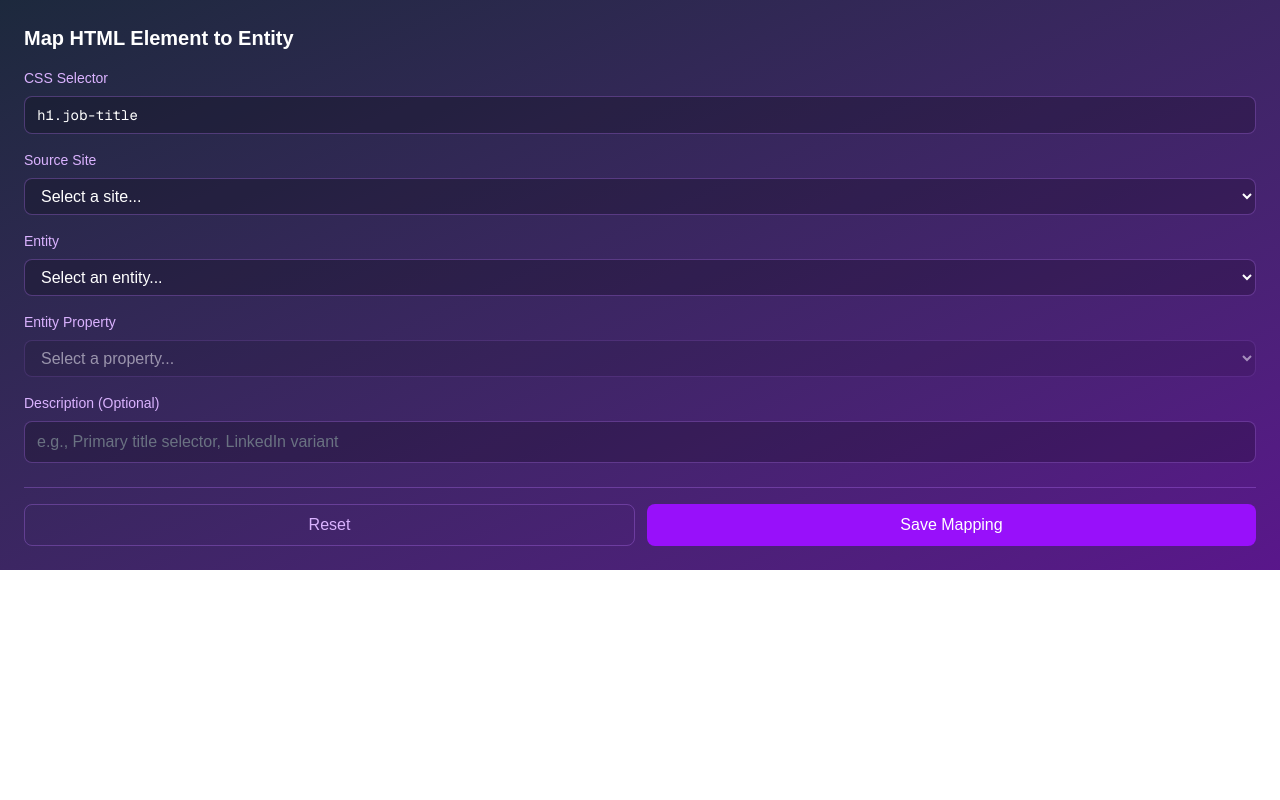
Test case: ValueMappingForm › form validation › should validate entity property selection
The width and height of the screenshot is (1280, 800).
Select "indeed.com" in the dropdown labelled "Source Site" at [640, 196], box [24, 178, 1256, 215]
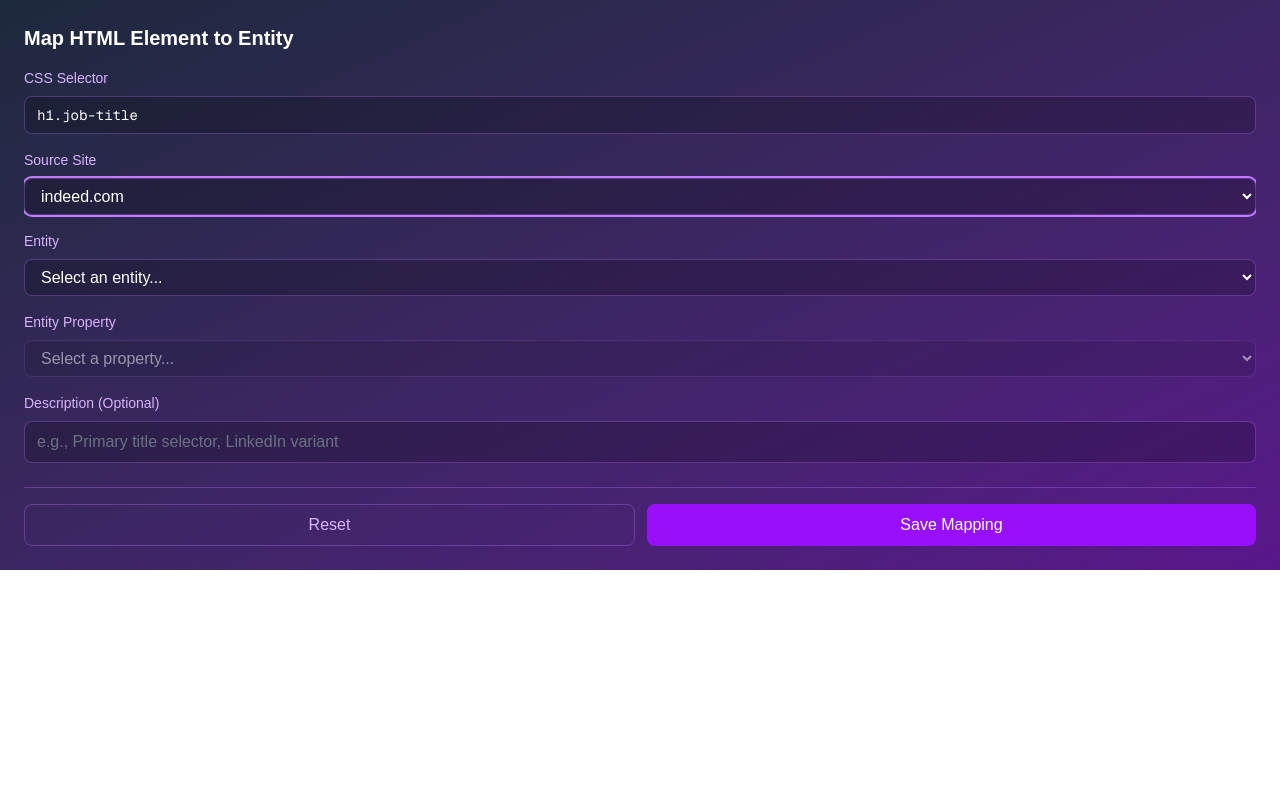
Select "roleListing" in the dropdown labelled "Entity" at [640, 278], box [24, 259, 1256, 296]
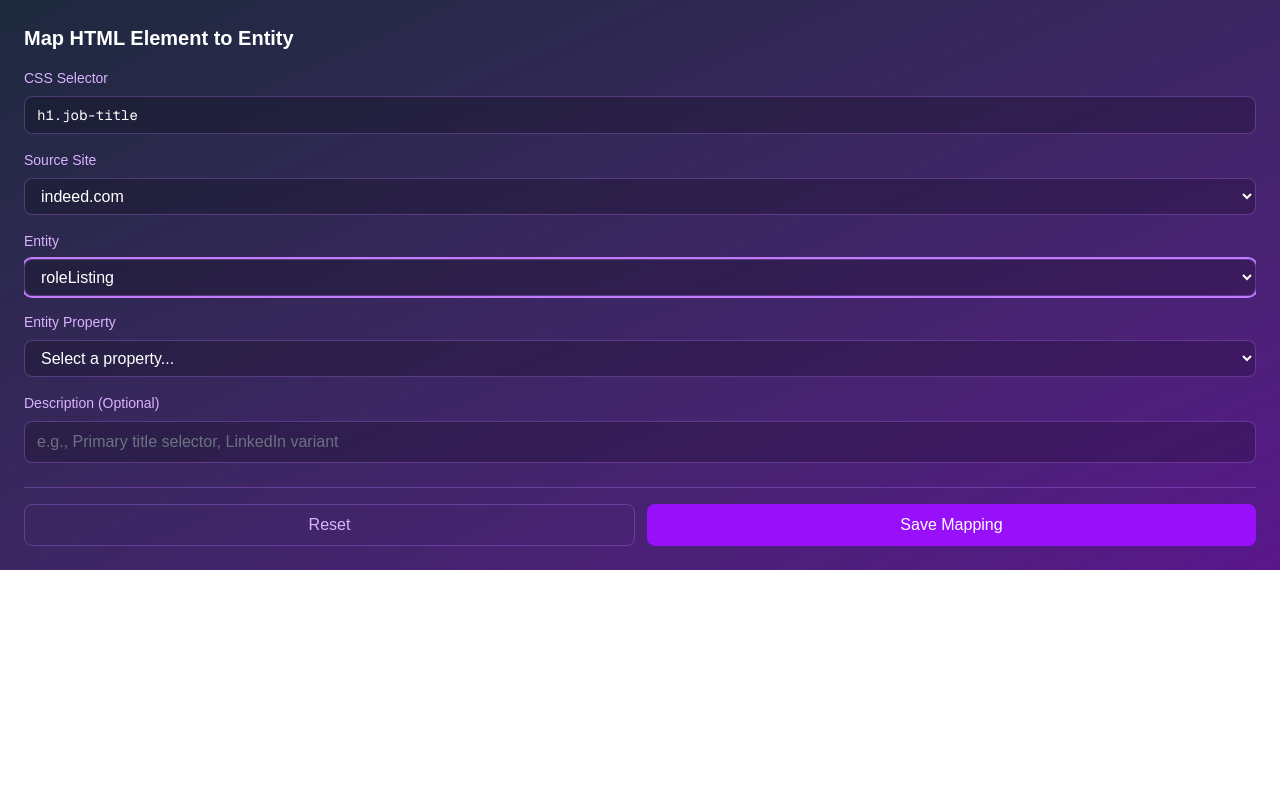
Click the button "Save Mapping" at [952, 525], box [647, 504, 1256, 546]
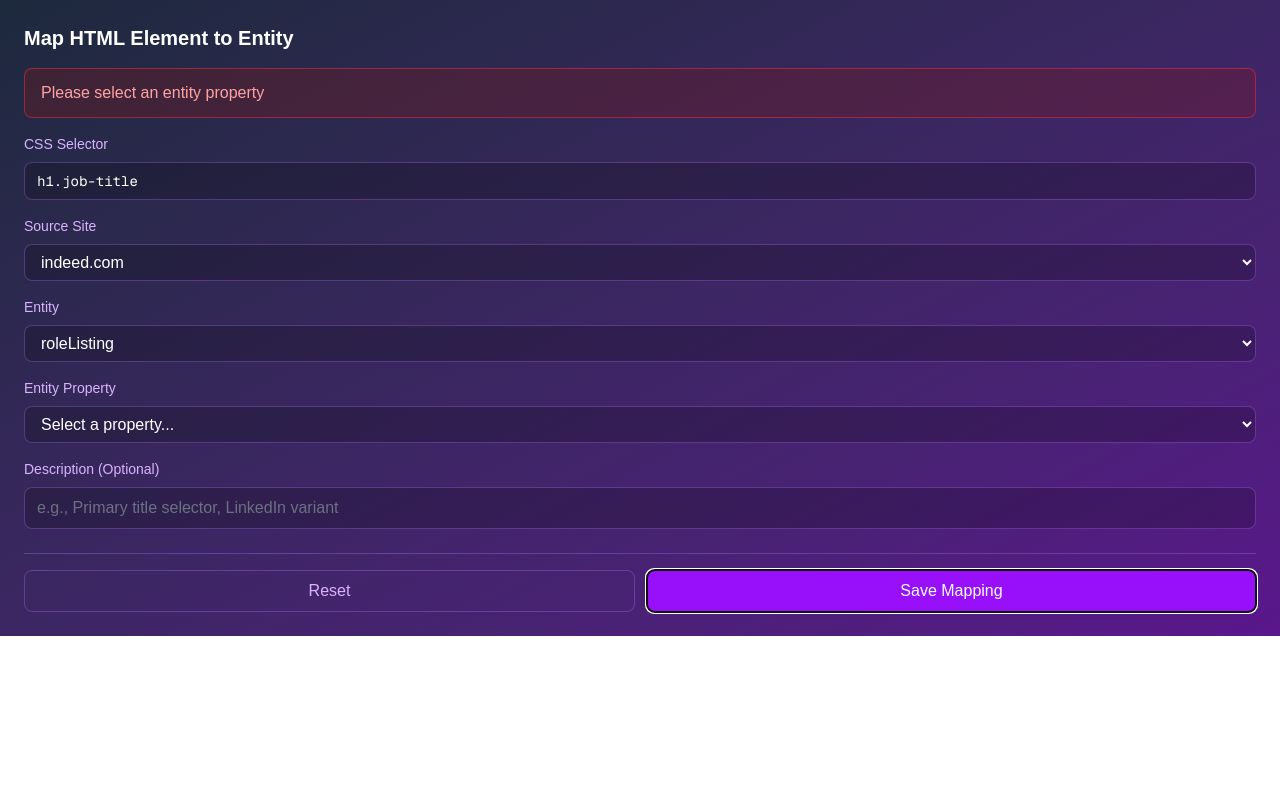
Now the text "Please select an entity property" is shown, box [24, 68, 1256, 118]
